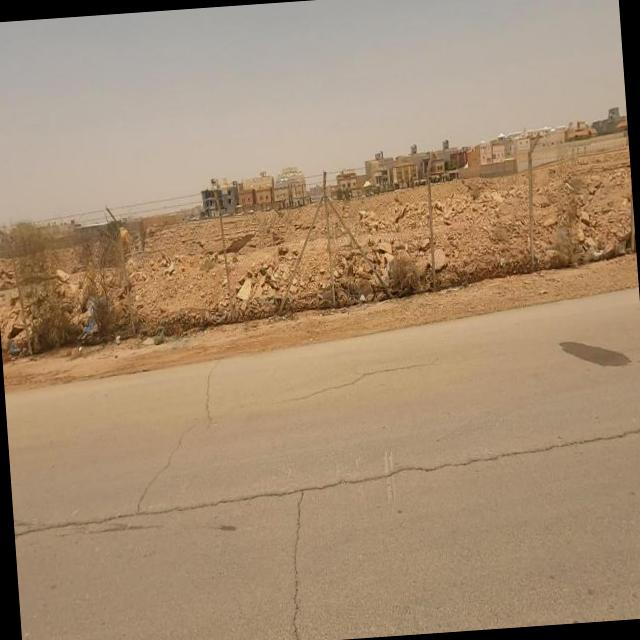debris: (48, 258, 131, 382), (332, 256, 392, 336), (0, 309, 51, 385)
